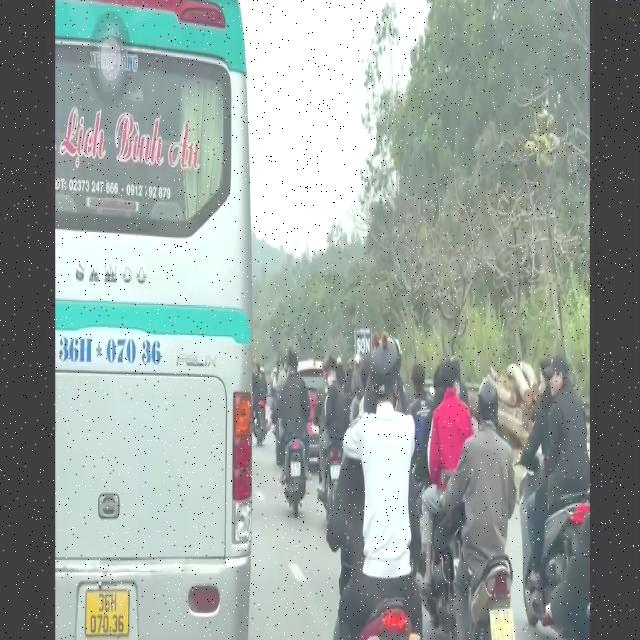helmet: (368, 330, 403, 417), (476, 373, 501, 436)
